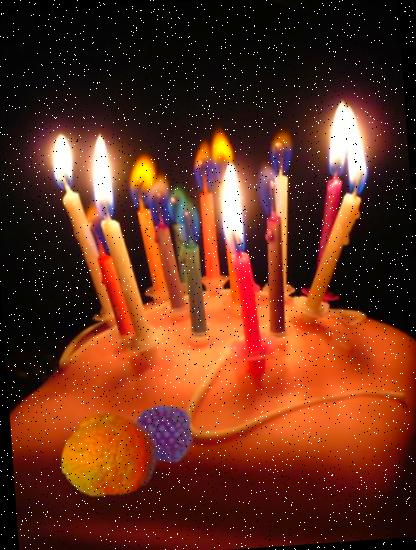Mandarine: (56, 403, 162, 509)
Raspberry: (133, 402, 195, 464)
